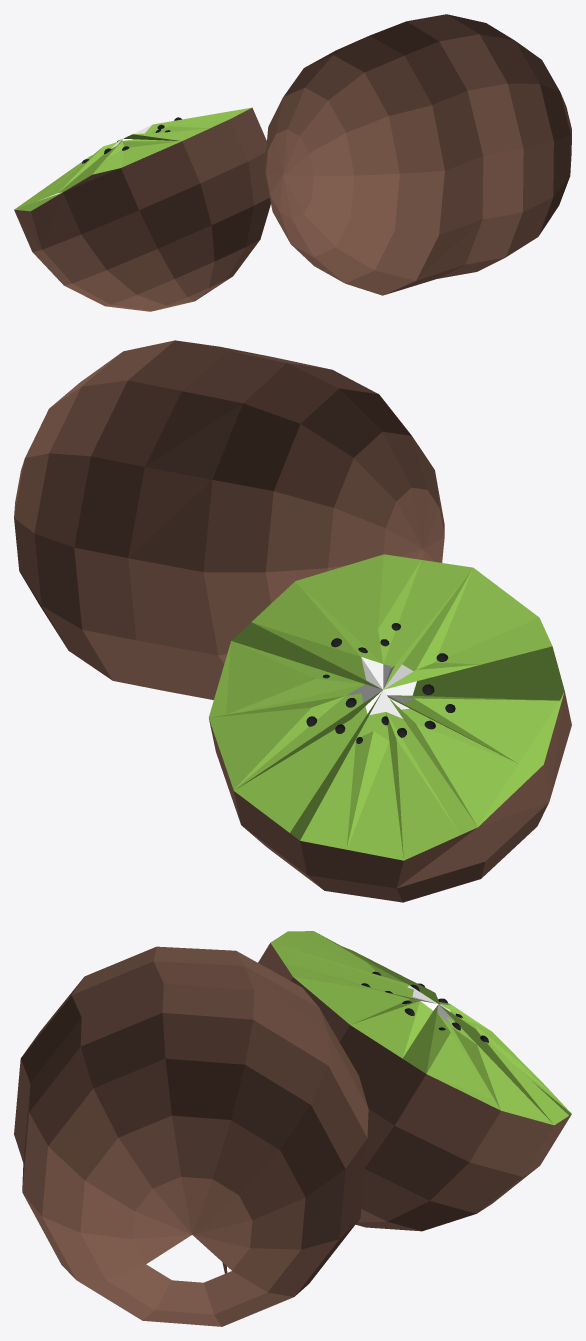
File: kiwi.glb
3 views of the same model, one above another, from view 1: azimuth 30°, elevation 25°; view 2: azimuth 150°, elevation 25°; view 3: azimuth 270°, elevation 25° (orthographic). The views are drawn at different scales.
Parts seen in each view (by area): view 1: Node; view 2: Node; view 3: Node.
Boxes of the visible parts, x1,y1,x2,y2 form: Node: (14,14,571,311); Node: (14,340,571,902); Node: (14,931,571,1326).
Bounding box in the file's own units: 0.5459 × 0.3167 × 0.438.
